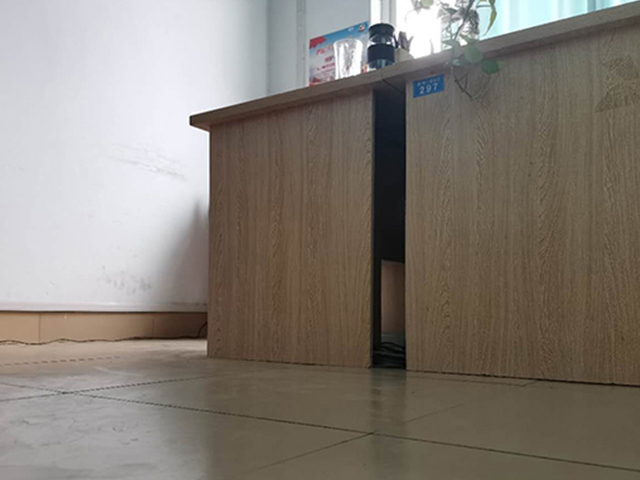table: (187, 1, 640, 387)
